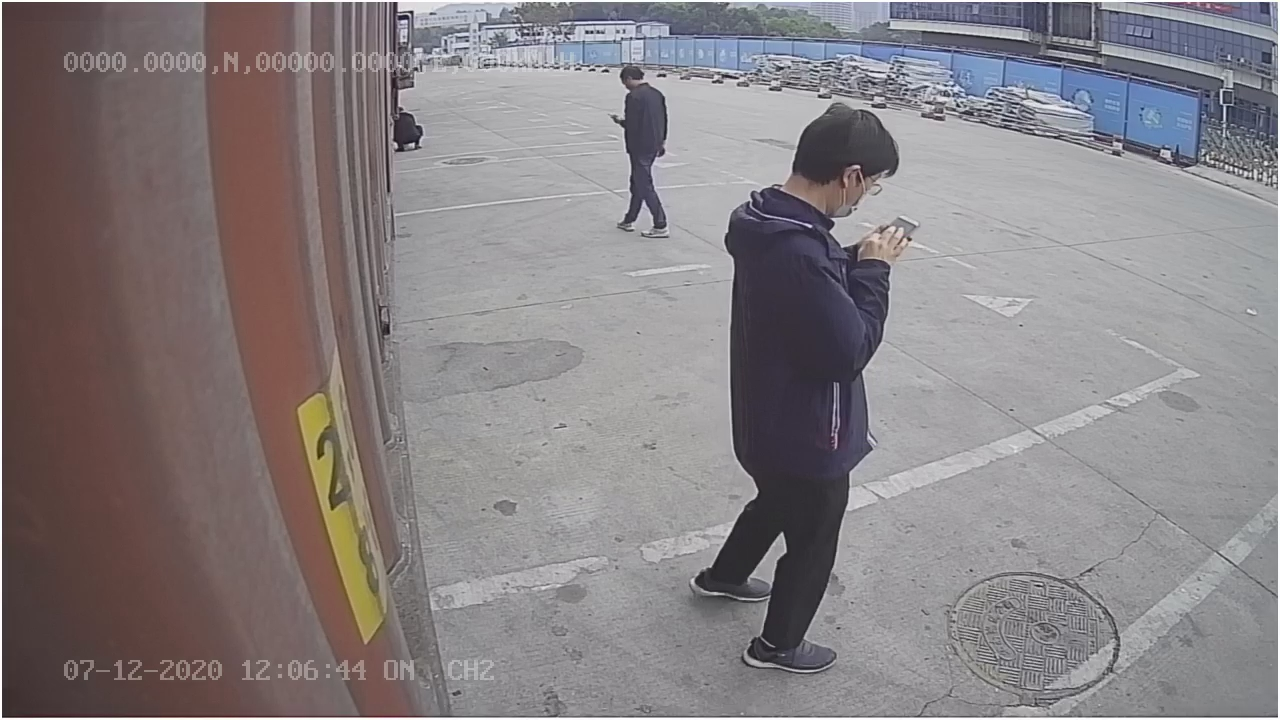person: (688, 93, 912, 671)
